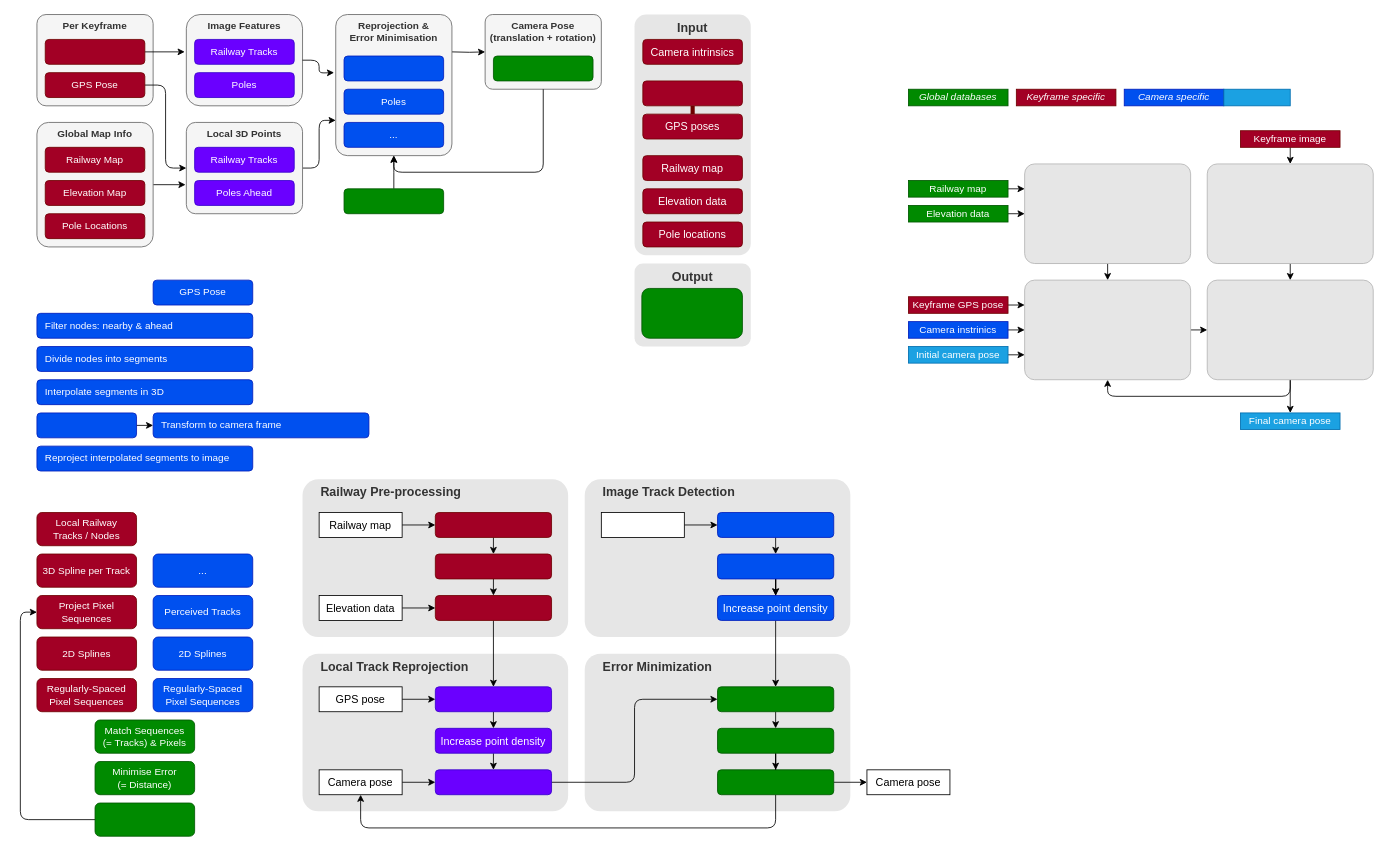
The diagram is 1388 pixels wide and 851 high, and some of its shapes have lost their labels. The shapes that lost their labels are listed below. From the top down, each one's centre as x and y in pixels, then its label:
At (94,51): "Camera Image".
At (393,68): "Railway Segments".
At (543,68): "Result".
At (692,93): "Images".
At (1256,97): "- estimate".
At (393,201): "Initial Guess".
At (1107,213): "Railway Processing Once globally Railway tracks as 3D points".
At (1289,213): "Track Detection Once per keyframe Observed tracks in image".
At (691,313): "Camera extrinsics - 3D translation - 3D rotation".
At (1107,329): "Track Reprojection Iterations per keyframe Tracks reprojected onto image".
At (1289,329): "Error Minimization Global iterations Improved camera pose estimate".
At (86,425): "Camera Pose Guess".
At (493,524): "Select relevant tracks".
At (642,524): "Image".
At (775,524): "Extract features".
At (493,566): "Interpolate to fill gaps".
At (775,566): "Detect railway tracks".
At (493,607): "Convert to 3D points".
At (493,699): "Select local points".
At (775,699): "Match closest points".
At (775,740): "Compute pixel error".
At (493,782): "Reproject onto camera".
At (775,782): "Update transformation".
At (144,819): "Improve Camera Pose Estimate".
